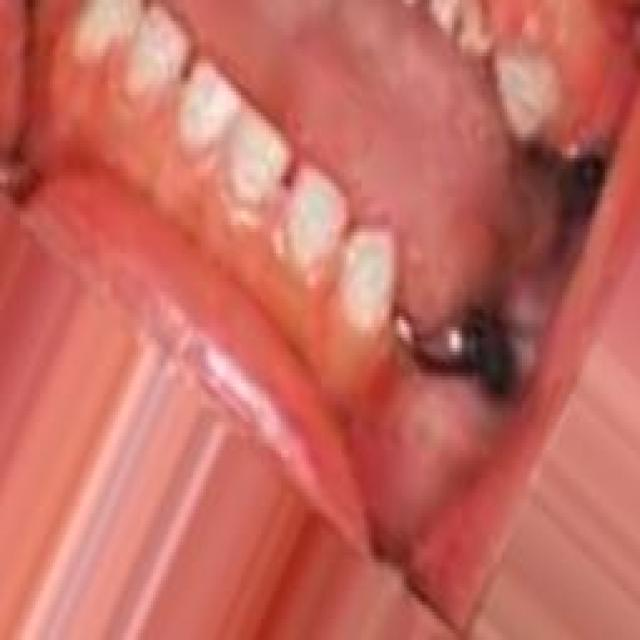caries: (407, 309, 486, 403), (436, 0, 496, 63)
